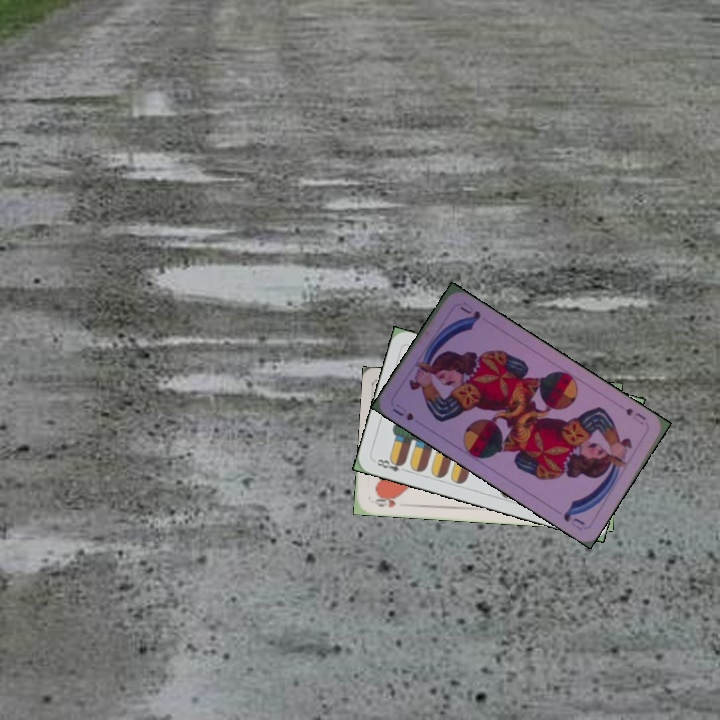E8: (373, 455, 410, 475)
HO: (369, 492, 401, 510)
SU: (389, 399, 416, 423), (622, 404, 648, 427)
